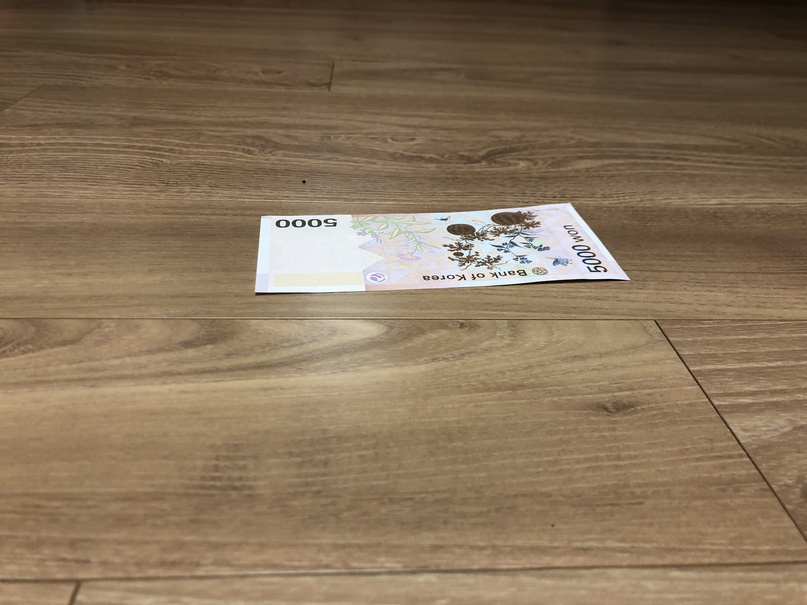5000won: (254, 202, 632, 296)
